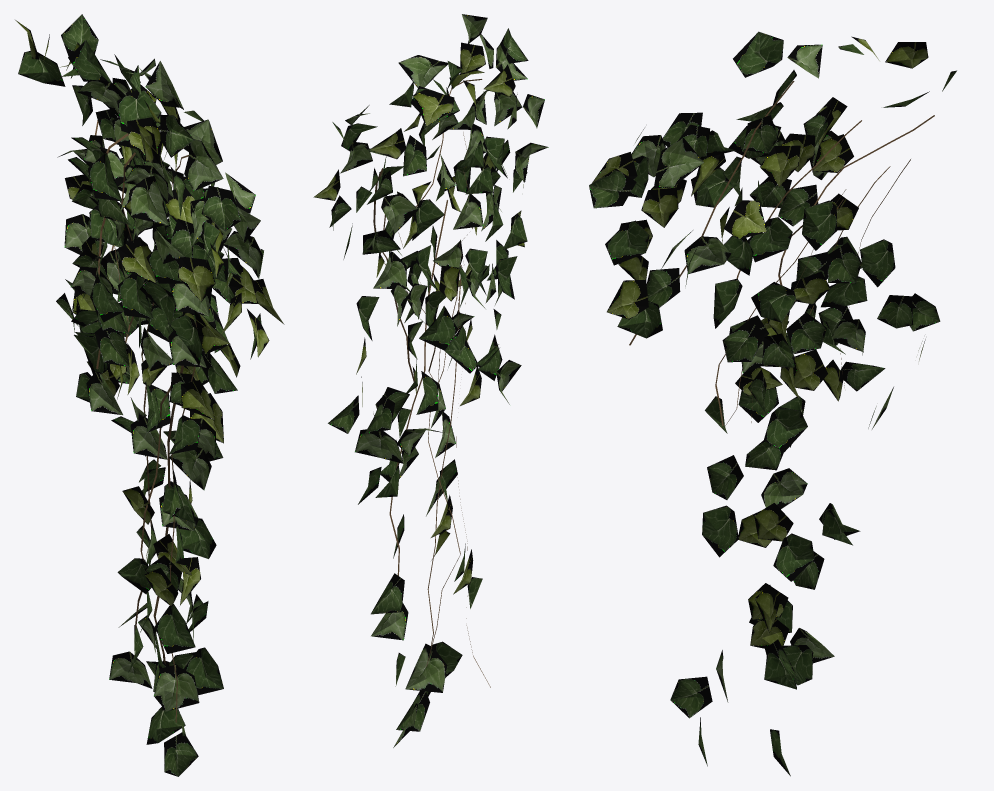
Rendered from SM_Ivy_01c.gltf.
3 renders of one model, left to right at view 1: azimuth 30°, elevation 25°; view 2: azimuth 150°, elevation 25°; view 3: azimuth 270°, elevation 25°, orthographic. The views are drawn at different scales.
Visible parts, largest first — view 1: SM_Ivy_01c; view 2: SM_Ivy_01c; view 3: SM_Ivy_01c.
Part boxes in pixels (<box>): SM_Ivy_01c: <box>15,14,284,776</box>; SM_Ivy_01c: <box>313,14,548,747</box>; SM_Ivy_01c: <box>589,31,956,776</box>.
Size of the model in its own units: 0.7452 by 3.61 by 1.73.
2 materials, 2 textured.
